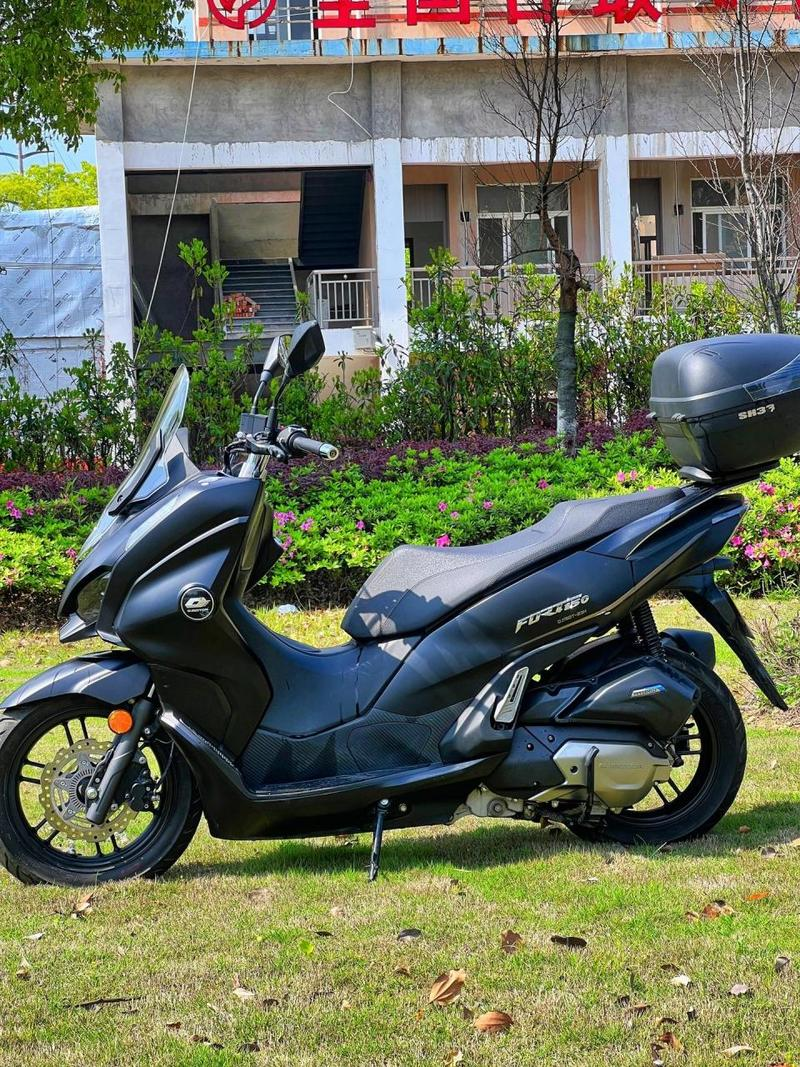摩托车: (1, 334, 797, 883)
